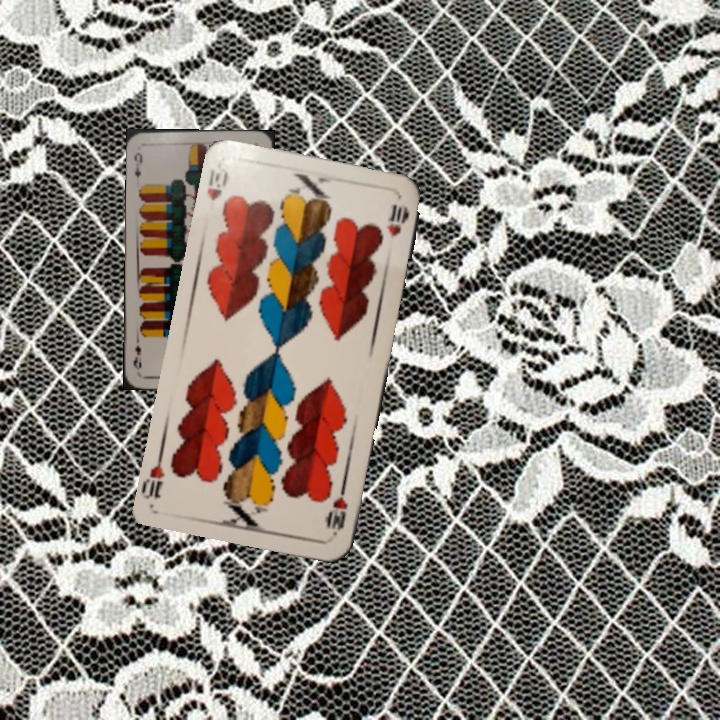E9: (130, 148, 145, 180)
H10: (323, 481, 350, 539), (202, 159, 231, 204)
